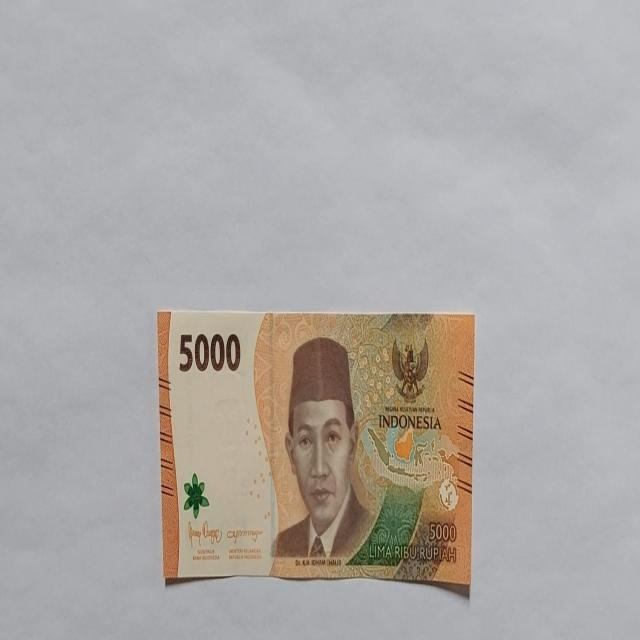lima ribu rupiah: (157, 308, 475, 594), (268, 335, 376, 565)
